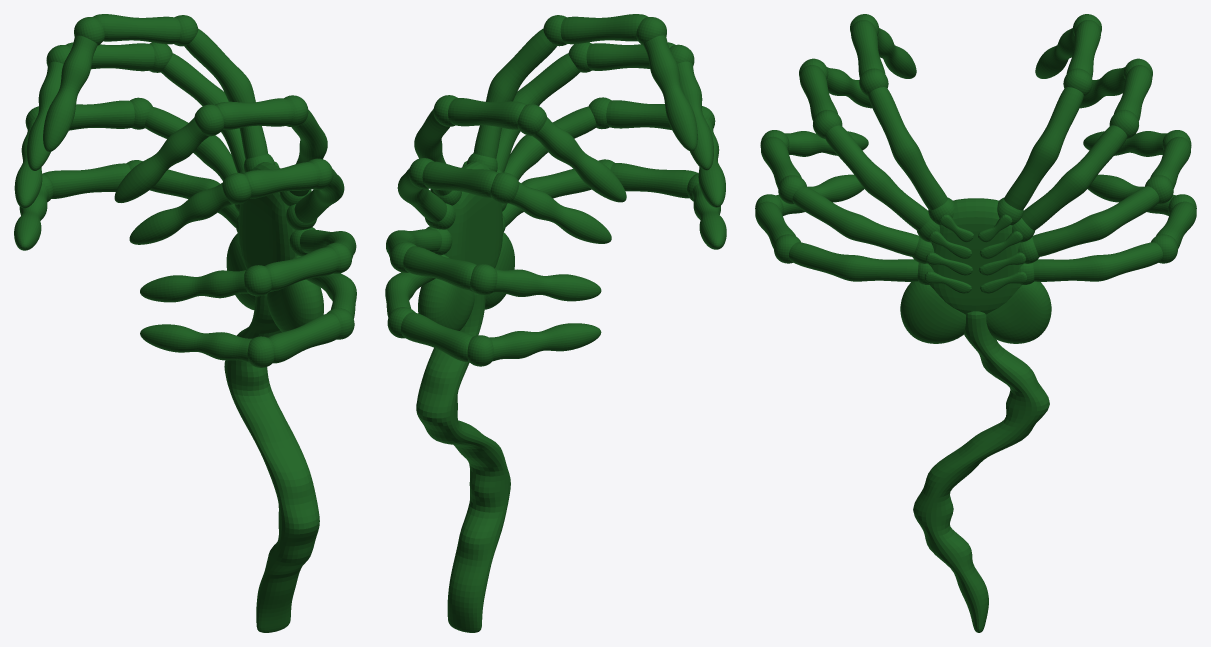
Rendered from facehugger.glb.
3 renders of one model, left to right at view 1: azimuth 30°, elevation 25°; view 2: azimuth 150°, elevation 25°; view 3: azimuth 270°, elevation 25°, orthographic. The views are drawn at different scales.
Visible parts, largest first — view 1: BODY; view 2: BODY; view 3: BODY.
Boxes of the visible parts, x1=… form: BODY: x1=14, y1=14, x2=356, y2=632; BODY: x1=385, y1=14, x2=726, y2=632; BODY: x1=755, y1=14, x2=1196, y2=632.
Size of the model in its own units: 13.33 by 35.73 by 25.68.
